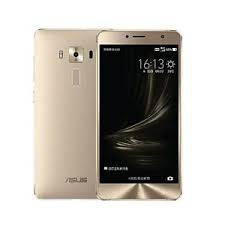asus: (94, 28, 184, 205), (29, 26, 98, 200)
